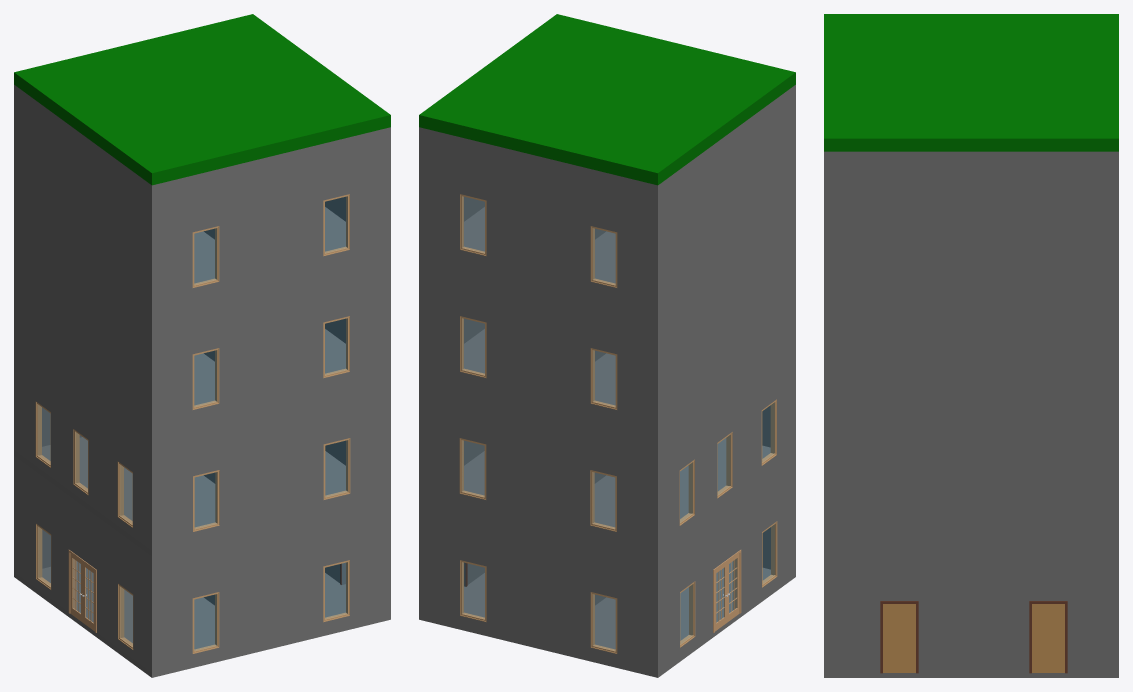
3 renders of one model, left to right at view 1: azimuth 30°, elevation 25°; view 2: azimuth 150°, elevation 25°; view 3: azimuth 270°, elevation 25°, orthographic. The views are drawn at different scales.
Parts seen in each view (by area): view 1: Fake; view 2: Fake; view 3: Fake.
Part boxes in pixels (box(x1,y1,x2,y2)): Fake: box(14, 14, 390, 677); Fake: box(419, 14, 795, 677); Fake: box(824, 14, 1118, 677).
Size of the model in its own units: 8.28 by 16.55 by 8.2.
